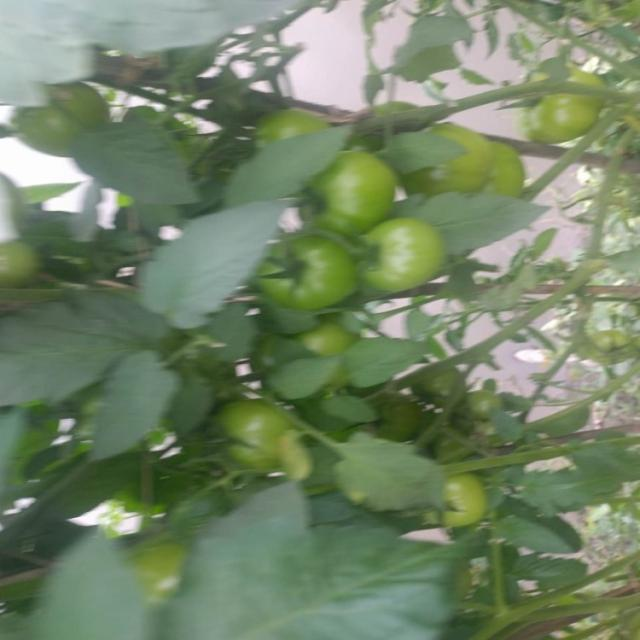tomato: (399, 120, 530, 204), (250, 225, 377, 311), (5, 66, 108, 160), (520, 55, 614, 147), (303, 148, 395, 241), (354, 217, 444, 299), (223, 393, 297, 475), (424, 462, 487, 539), (247, 104, 334, 142), (406, 360, 470, 406), (469, 382, 508, 431)
